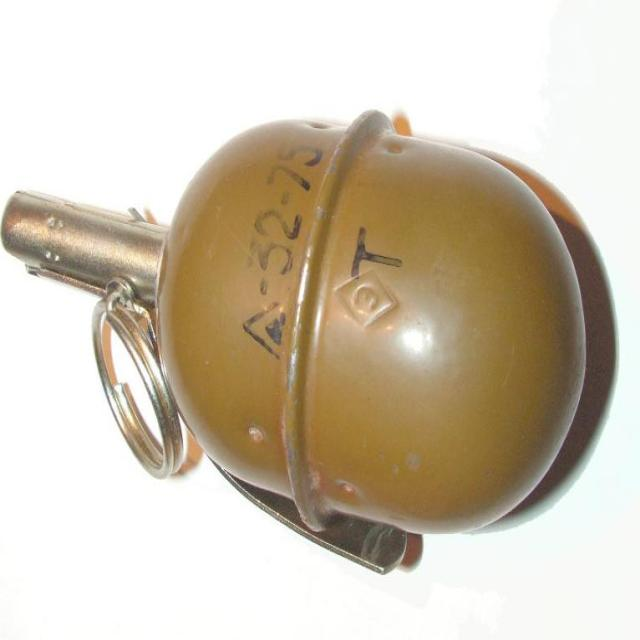grenade: (1, 107, 588, 575)
